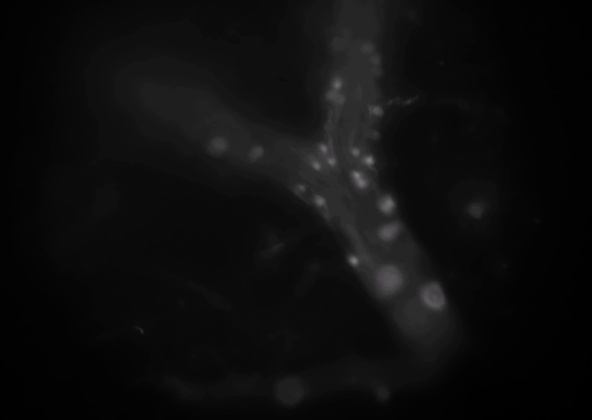cell: (429, 290, 443, 304), (371, 104, 385, 118), (348, 145, 362, 159), (362, 153, 376, 167), (316, 141, 330, 155), (309, 158, 323, 172), (325, 153, 339, 167), (323, 89, 337, 103), (350, 168, 364, 182), (333, 90, 347, 104), (355, 177, 369, 191), (347, 255, 361, 269), (381, 272, 395, 286), (378, 228, 392, 242), (383, 198, 397, 212), (384, 226, 398, 240), (379, 197, 393, 211), (312, 195, 326, 209), (296, 180, 310, 194), (251, 143, 265, 157), (212, 139, 226, 153), (358, 42, 372, 56), (368, 53, 382, 67), (331, 37, 345, 51), (368, 129, 382, 143), (330, 78, 344, 92)
